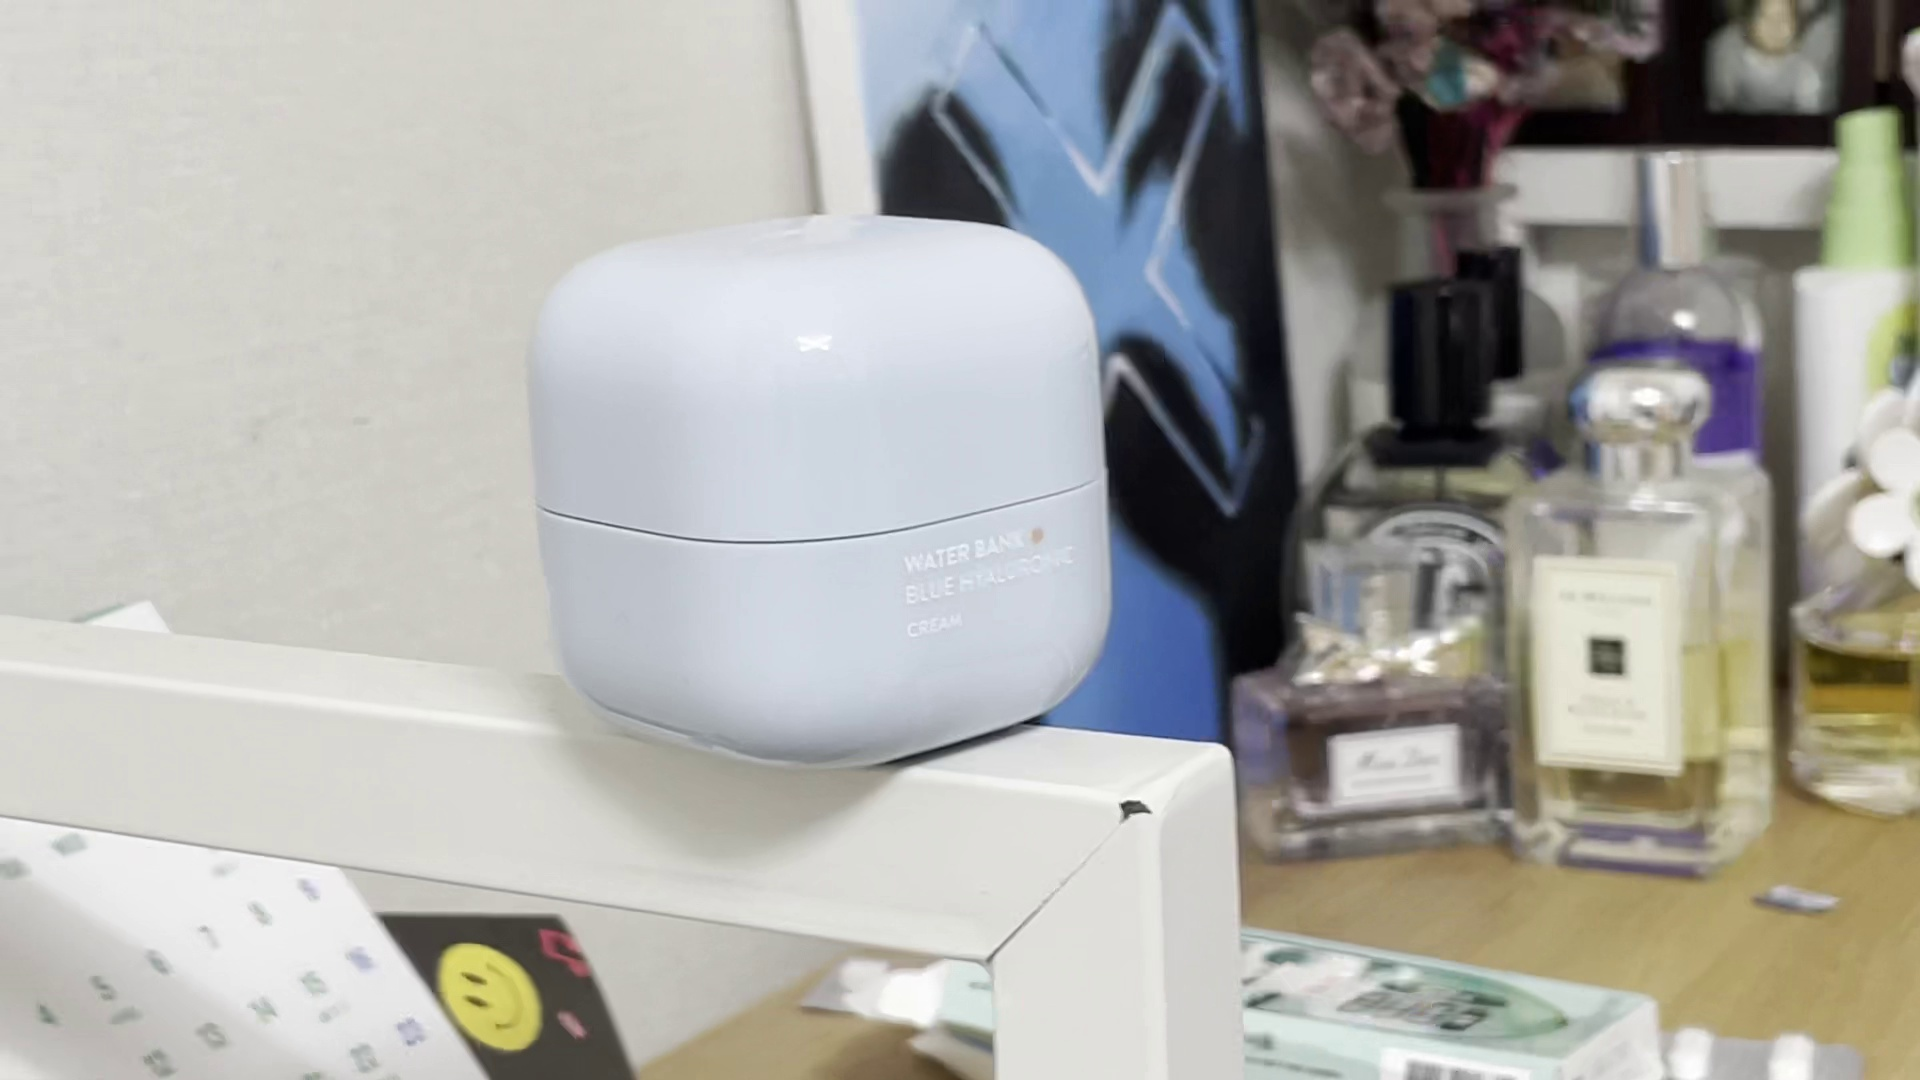cream: (520, 207, 1124, 774)
